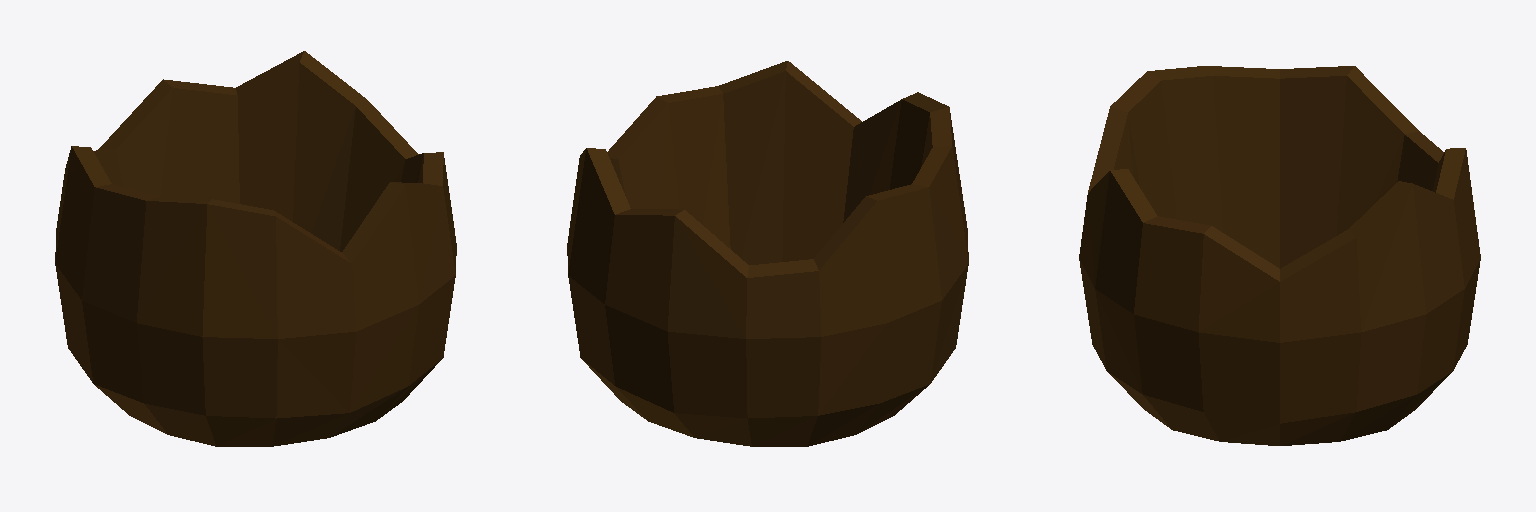
The model's file is Pot3_Broken.obj.
3 renders of one model, left to right at view 1: azimuth 30°, elevation 25°; view 2: azimuth 150°, elevation 25°; view 3: azimuth 270°, elevation 25°, orthographic.
Visible parts, largest first — view 1: Pot3_Broken_Cube.110; view 2: Pot3_Broken_Cube.110; view 3: Pot3_Broken_Cube.110.
Part boxes in pixels (x1,y1,x2,y2): Pot3_Broken_Cube.110: (55, 51, 456, 446); Pot3_Broken_Cube.110: (567, 61, 968, 446); Pot3_Broken_Cube.110: (1079, 66, 1480, 445).
Bounding box in the file's own units: 0.4633 × 0.3271 × 0.4633.